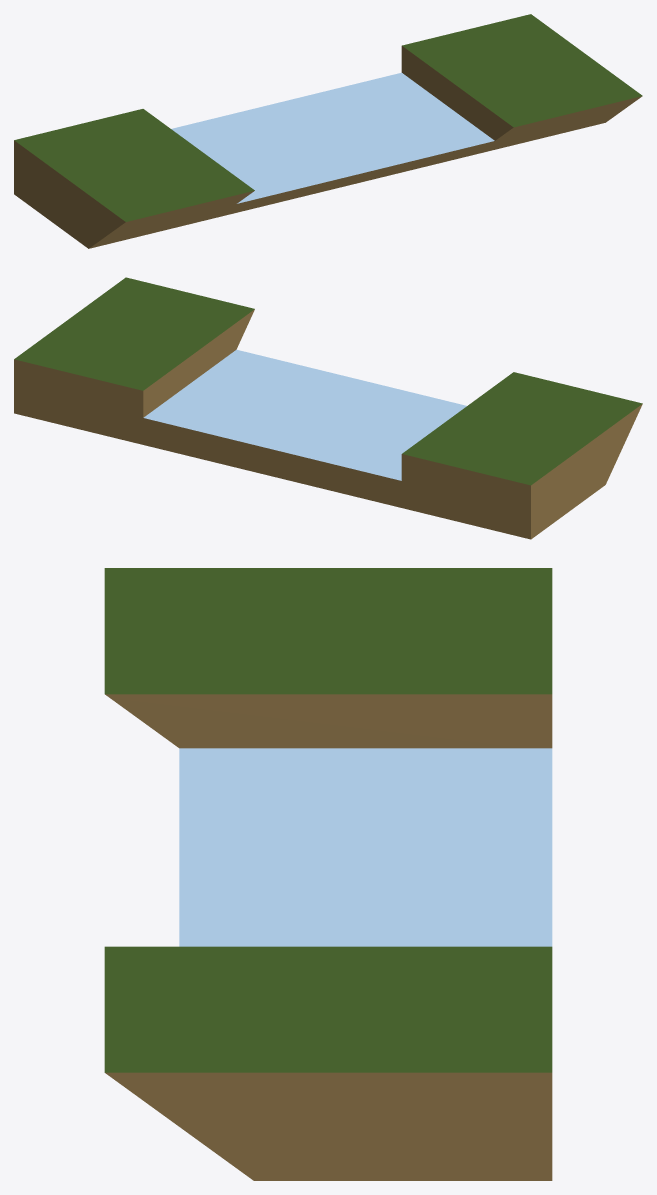
Rendered from Terrain_Modular_Tiles_Grass_Dirt_Cliff_Edge_River_Outer_03.fbx.
3 renders of one model, top to bottom at view 1: azimuth 30°, elevation 25°; view 2: azimuth 150°, elevation 25°; view 3: azimuth 270°, elevation 25°, orthographic. The views are drawn at different scales.
Parts seen in each view (by area): view 1: Terrain_Modular_Tiles_Grass_Dirt_Cliff_Edge_River_Outer_03; view 2: Terrain_Modular_Tiles_Grass_Dirt_Cliff_Edge_River_Outer_03; view 3: Terrain_Modular_Tiles_Grass_Dirt_Cliff_Edge_River_Outer_03.
Part boxes in pixels (x1=…): Terrain_Modular_Tiles_Grass_Dirt_Cliff_Edge_River_Outer_03: x1=14, y1=14, x2=642, y2=248; Terrain_Modular_Tiles_Grass_Dirt_Cliff_Edge_River_Outer_03: x1=14, y1=277, x2=642, y2=539; Terrain_Modular_Tiles_Grass_Dirt_Cliff_Edge_River_Outer_03: x1=104, y1=568, x2=552, y2=1180.
Size of the model in its own units: 118 by 11.81 by 44.29.
